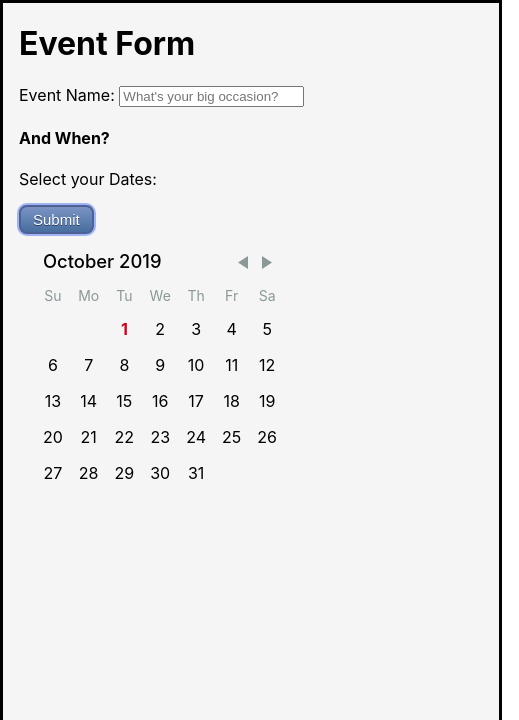
it: event-form › should allow users to delete dates that were mistakenly selected as options
Click the text "30" at (160, 473), box [150, 463, 170, 483]
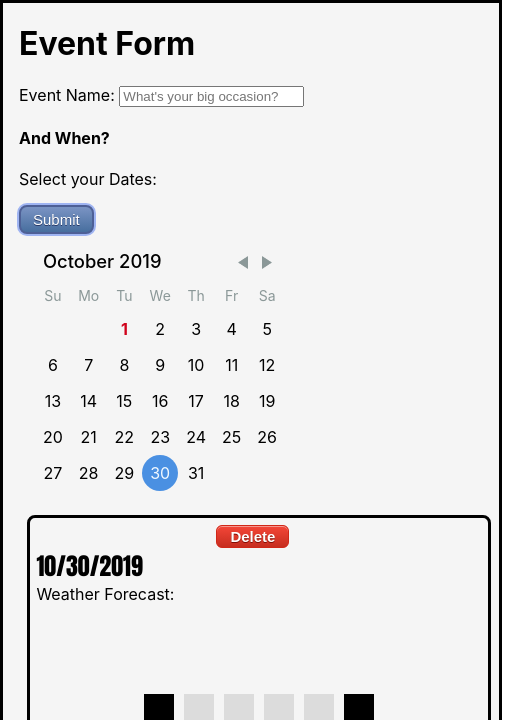
Now the text "10/30/2019" is shown, box [36, 548, 143, 584]
Click the button "Delete" at (253, 536), box [216, 525, 289, 548]
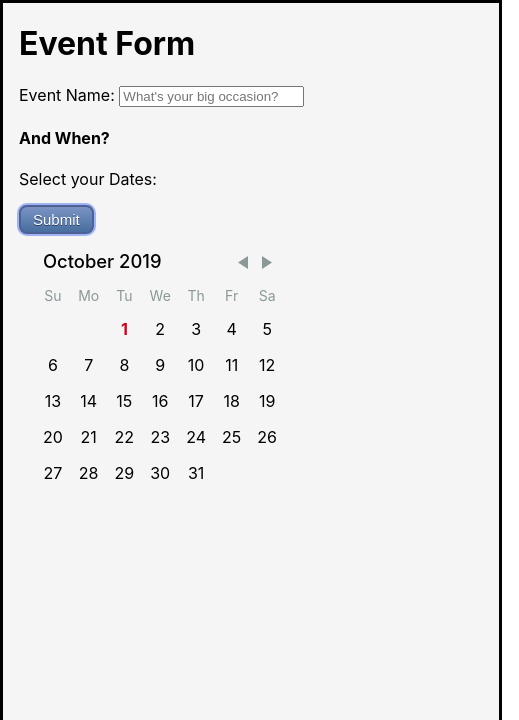
Now the text "10/30/2019" is gone
